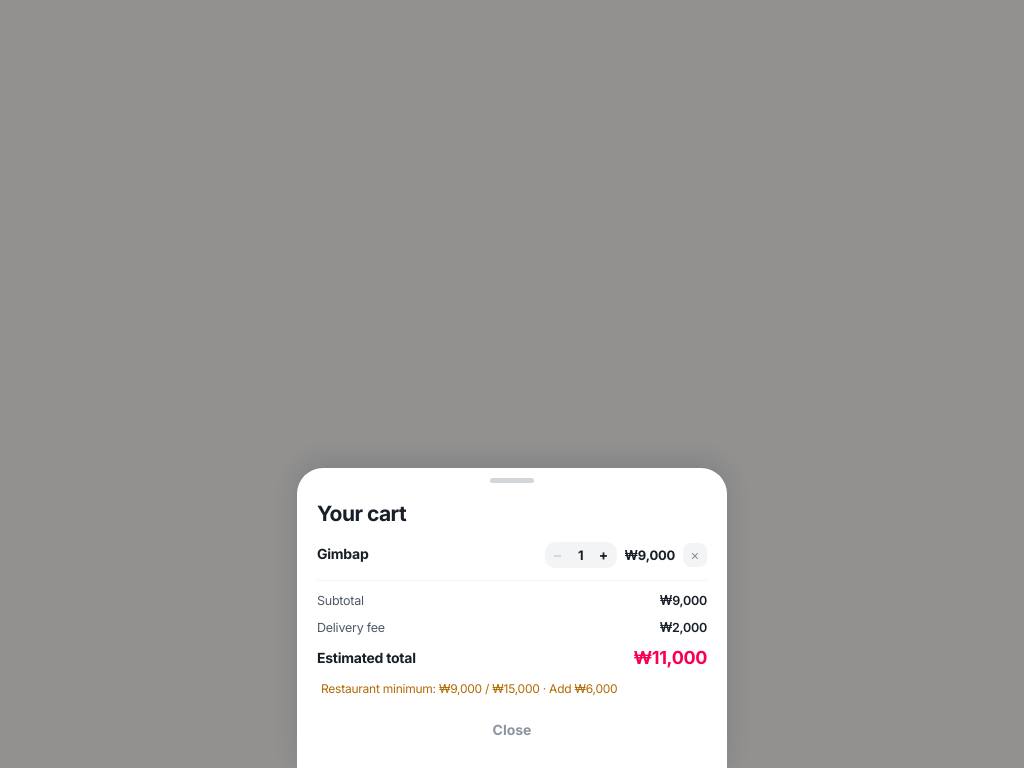
Test: CartSheet › shows cart lines and lets the visitor change quantity or remove a menu
Expected: the text "Gimbap" is shown, [317, 545, 369, 562]
Expected: the text "Restaurant minimum: ₩9,000 / ₩15,000 · Add ₩6,000" is shown, [321, 681, 617, 696]
Click the button named "Increase Gimbap". click: (604, 555)
box: [591, 542, 617, 568]
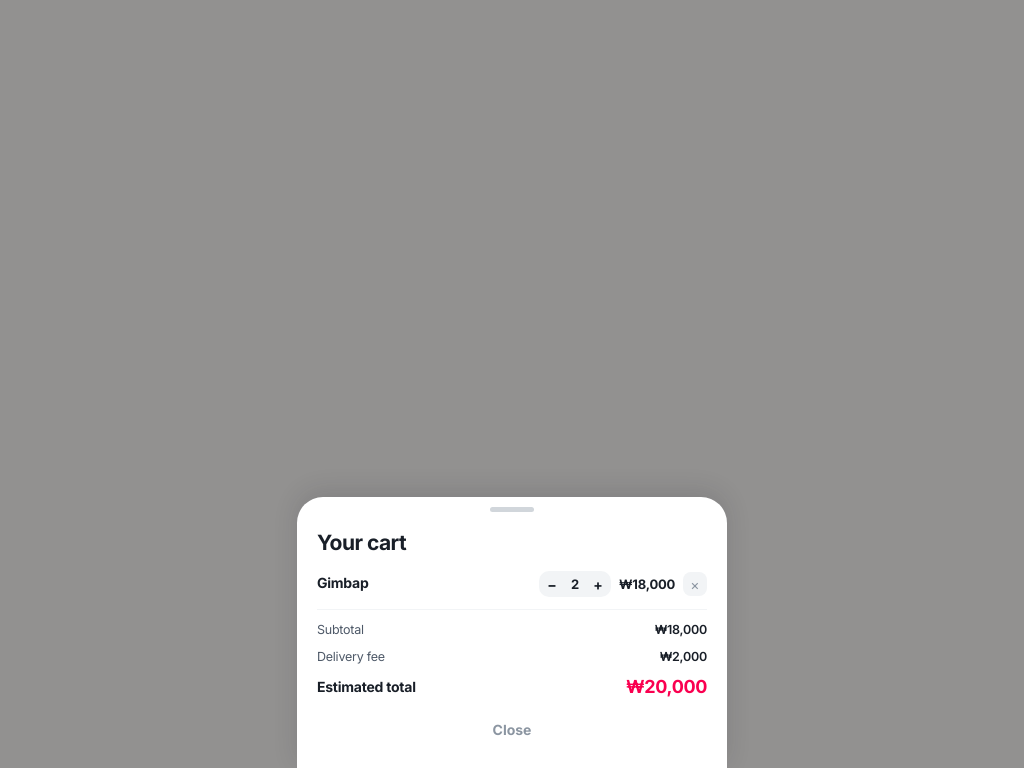
Click the button named "Remove: Gimbap". click: (695, 584)
box: [683, 572, 707, 596]
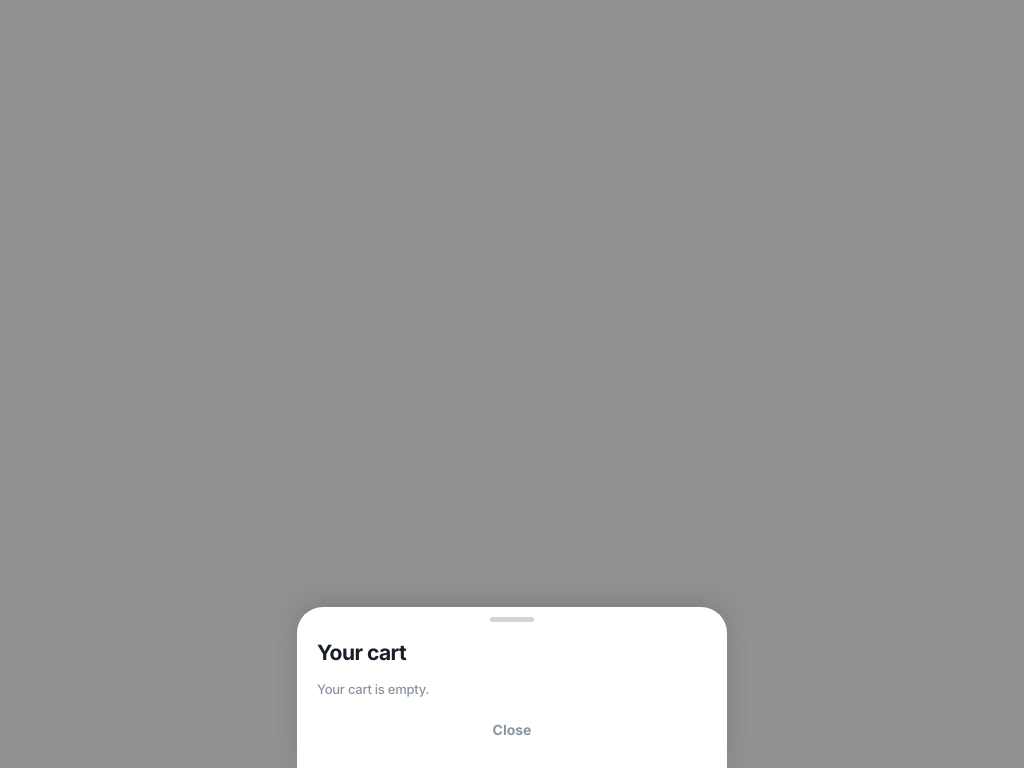
Expected: the text "Your cart is empty." is shown, [317, 681, 429, 697]
